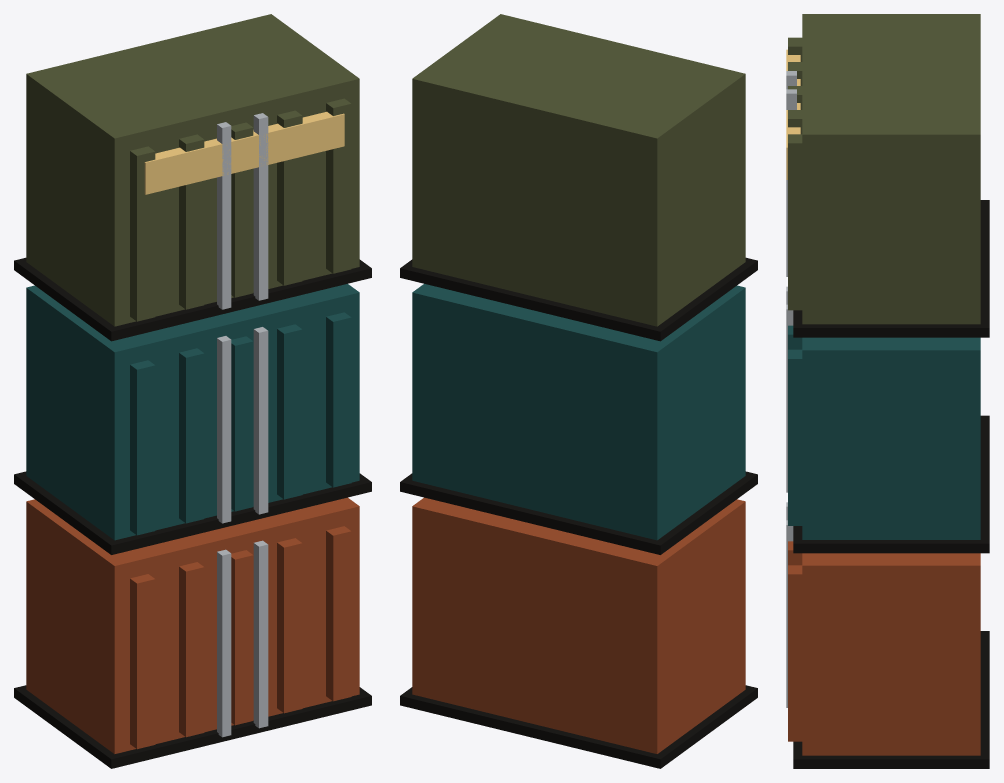
File: container.glb
3 views of the same model, side by side, from view 1: azimuth 30°, elevation 25°; view 2: azimuth 150°, elevation 25°; view 3: azimuth 270°, elevation 25° (orthographic).
Parts seen in each view (by area): view 1: Body, LampStripe; view 2: Body; view 3: Body, LampStripe.
Boxes of the visible parts, bbox=[...] form: Body: bbox=[14, 14, 371, 768]; LampStripe: bbox=[144, 111, 344, 194]; Body: bbox=[400, 14, 757, 768]; Body: bbox=[786, 14, 989, 768]; LampStripe: bbox=[786, 49, 800, 179].
Bounding box in the file's own units: 0.17 × 0.39 × 0.114.
